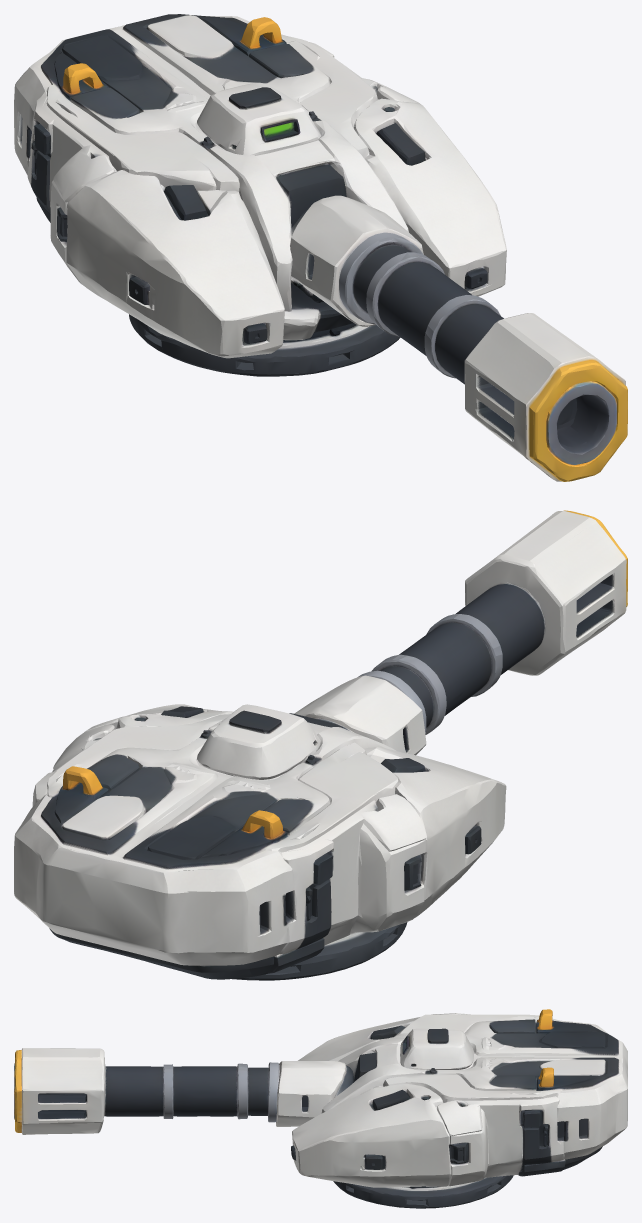
Rendered from cannon.glb.
3 renders of one model, top to bottom at view 1: azimuth 30°, elevation 25°; view 2: azimuth 150°, elevation 25°; view 3: azimuth 270°, elevation 25°, orthographic. The views are drawn at different scales.
Visible parts, largest first — view 1: model; view 2: model; view 3: model.
Part boxes in pixels (x1,y1,x2,y2): model: (14, 14, 627, 481); model: (14, 510, 627, 980); model: (14, 1009, 627, 1208).
Bounding box in the file's own units: 0.8374 × 0.4728 × 1.9.
Materials: 1 (1 with a texture image).
